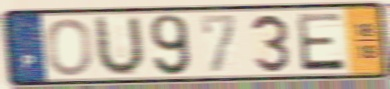3: (248, 11, 293, 75)
7: (199, 13, 239, 76)
9: (148, 12, 191, 78)
E: (294, 11, 348, 73)
O: (46, 17, 95, 78)
U: (94, 14, 147, 79)
